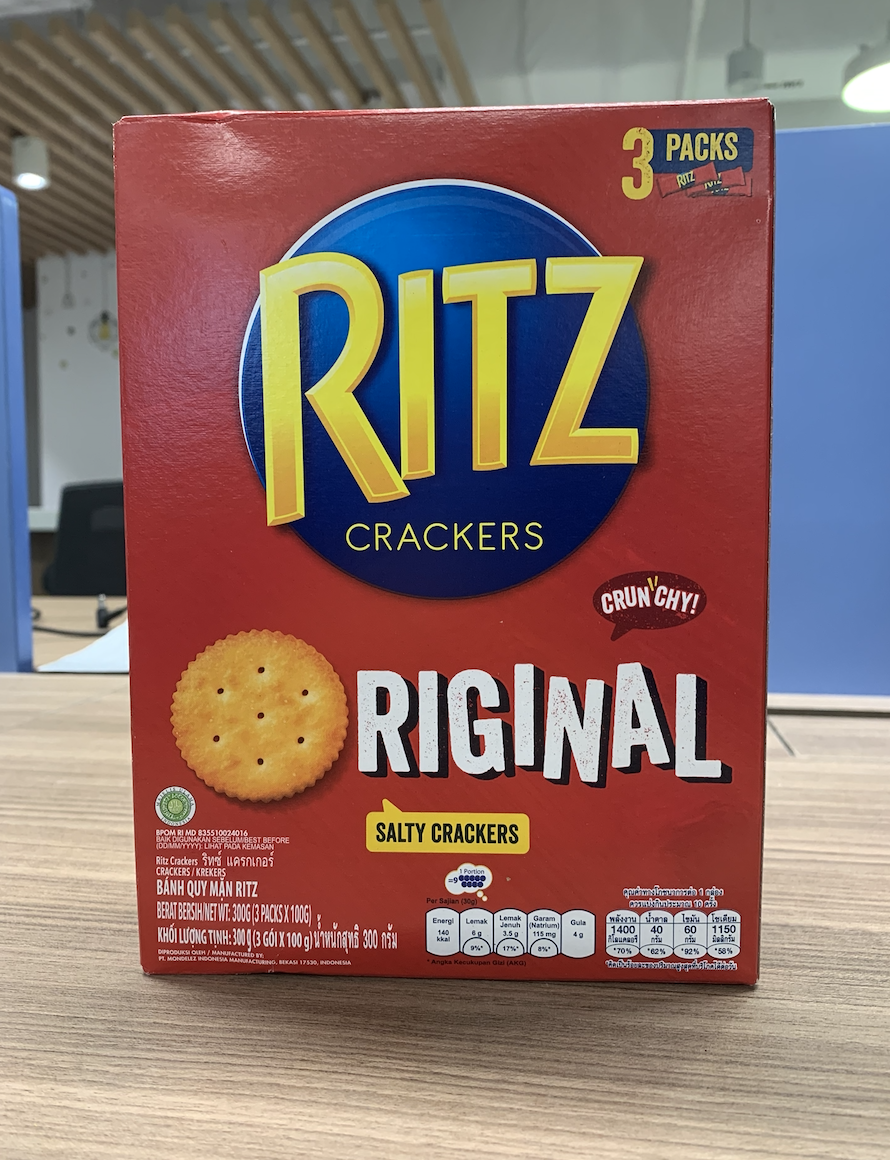crackers_150g: (140, 119, 756, 966)
